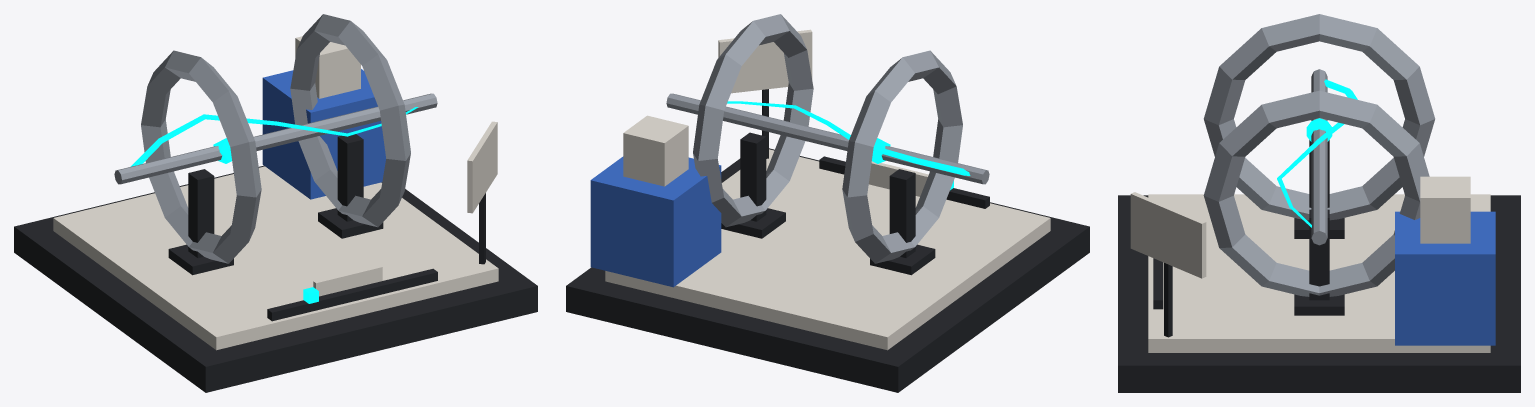
File: style_test.glb
3 renders of one model, left to right at view 1: azimuth 30°, elevation 25°; view 2: azimuth 150°, elevation 25°; view 3: azimuth 270°, elevation 25°, orthographic. The views are drawn at different scales.
Parts seen in each view (by area): view 1: PROP_plinth, PROP_detector_ring_00, PROP_detector_ring_01, PROP_data_block, HERO_beam_pipe, PROP_ring_support_00, PROP_ring_support_01, PROP_sign, PROP_packet_rail, PROP_trim_block, FX_particle_trail, PROP_plinth_label; view 2: PROP_plinth, PROP_data_block, PROP_detector_ring_00, PROP_detector_ring_01, PROP_trim_block, HERO_beam_pipe, PROP_ring_support_00, PROP_ring_support_01, PROP_sign, FX_particle_trail, PROP_packet_rail, PROP_plinth_label; view 3: PROP_plinth, PROP_detector_ring_01, PROP_detector_ring_00, PROP_data_block, PROP_sign, PROP_trim_block, HERO_beam_pipe, PROP_ring_support_01, PROP_ring_support_00, FX_particle_trail, PROP_packet_rail.
Part boxes in pixels (bbox=[...]): PROP_plinth: bbox=[14, 165, 537, 392]; PROP_detector_ring_00: bbox=[141, 50, 261, 263]; PROP_detector_ring_01: bbox=[290, 14, 410, 227]; PROP_data_block: bbox=[262, 69, 385, 199]; HERO_beam_pipe: bbox=[114, 93, 437, 184]; PROP_ring_support_00: bbox=[168, 169, 233, 275]; PROP_ring_support_01: bbox=[318, 134, 383, 238]; PROP_sign: bbox=[467, 121, 497, 264]; PROP_packet_rail: bbox=[267, 268, 437, 321]; PROP_trim_block: bbox=[295, 36, 360, 98]; FX_particle_trail: bbox=[130, 107, 417, 166]; PROP_plinth_label: bbox=[313, 265, 382, 296]; PROP_plinth: bbox=[566, 148, 1089, 392]; PROP_data_block: bbox=[590, 156, 721, 287]; PROP_detector_ring_00: bbox=[842, 50, 962, 263]; PROP_detector_ring_01: bbox=[693, 14, 813, 227]; PROP_trim_block: bbox=[623, 115, 688, 186]; HERO_beam_pipe: bbox=[666, 93, 989, 184]; PROP_ring_support_00: bbox=[870, 169, 935, 275]; PROP_ring_support_01: bbox=[721, 132, 785, 238]; PROP_sign: bbox=[718, 29, 812, 158]; FX_particle_trail: bbox=[727, 101, 970, 175]; PROP_packet_rail: bbox=[819, 156, 989, 208]; PROP_plinth_label: bbox=[868, 161, 928, 196]; PROP_plinth: bbox=[1118, 194, 1520, 392]; PROP_detector_ring_01: bbox=[1203, 90, 1429, 296]; PROP_detector_ring_00: bbox=[1203, 14, 1435, 220]; PROP_data_block: bbox=[1395, 211, 1495, 345]; PROP_sign: bbox=[1130, 192, 1206, 337]; PROP_trim_block: bbox=[1420, 176, 1470, 243]; HERO_beam_pipe: bbox=[1311, 69, 1327, 245]; PROP_ring_support_01: bbox=[1294, 209, 1344, 315]; PROP_ring_support_00: bbox=[1294, 140, 1344, 238]; FX_particle_trail: bbox=[1277, 79, 1357, 227]; PROP_packet_rail: bbox=[1153, 258, 1163, 309].
Bounding box in the file's own units: 4 × 2.8 × 4.
